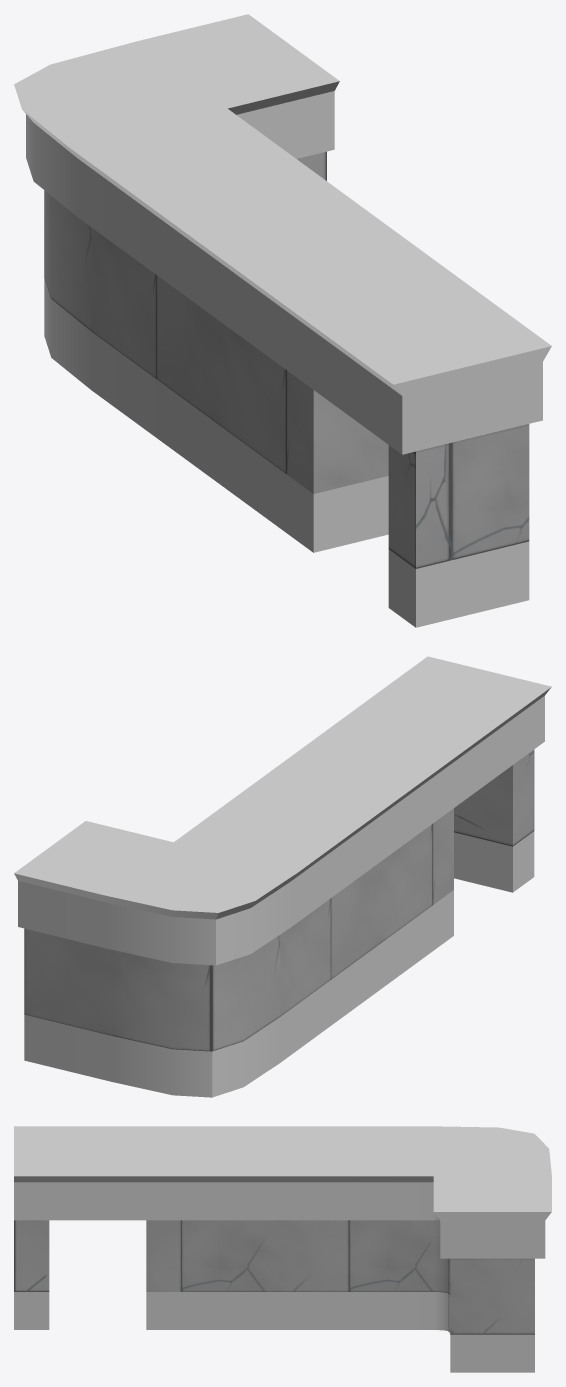
The model's file is Trim_BrickWall01.fbx.
3 views of the same model, one above another, from view 1: azimuth 30°, elevation 25°; view 2: azimuth 150°, elevation 25°; view 3: azimuth 270°, elevation 25° (orthographic). The views are drawn at different scales.
Parts seen in each view (by area): view 1: Trim_BrickWallDoor01, Trim_BrickWallCorner, Trim_BrickWall01; view 2: Trim_BrickWallCorner, Trim_BrickWall01, Trim_BrickWallDoor01; view 3: Trim_BrickWallCorner, Trim_BrickWall01, Trim_BrickWallDoor01.
Part boxes in pixels (x1,y1,x2,y2): Trim_BrickWallDoor01: (264,251,551,627); Trim_BrickWallCorner: (14,14,339,437); Trim_BrickWall01: (134,156,421,532); Trim_BrickWallCorner: (14,805,348,1097); Trim_BrickWall01: (225,730,449,1025); Trim_BrickWallDoor01: (326,656,551,950); Trim_BrickWallCorner: (349,1126,551,1372); Trim_BrickWall01: (181,1126,349,1329); Trim_BrickWallDoor01: (14,1126,181,1329).
Bounding box in the file's own units: 241 × 211 × 641.
